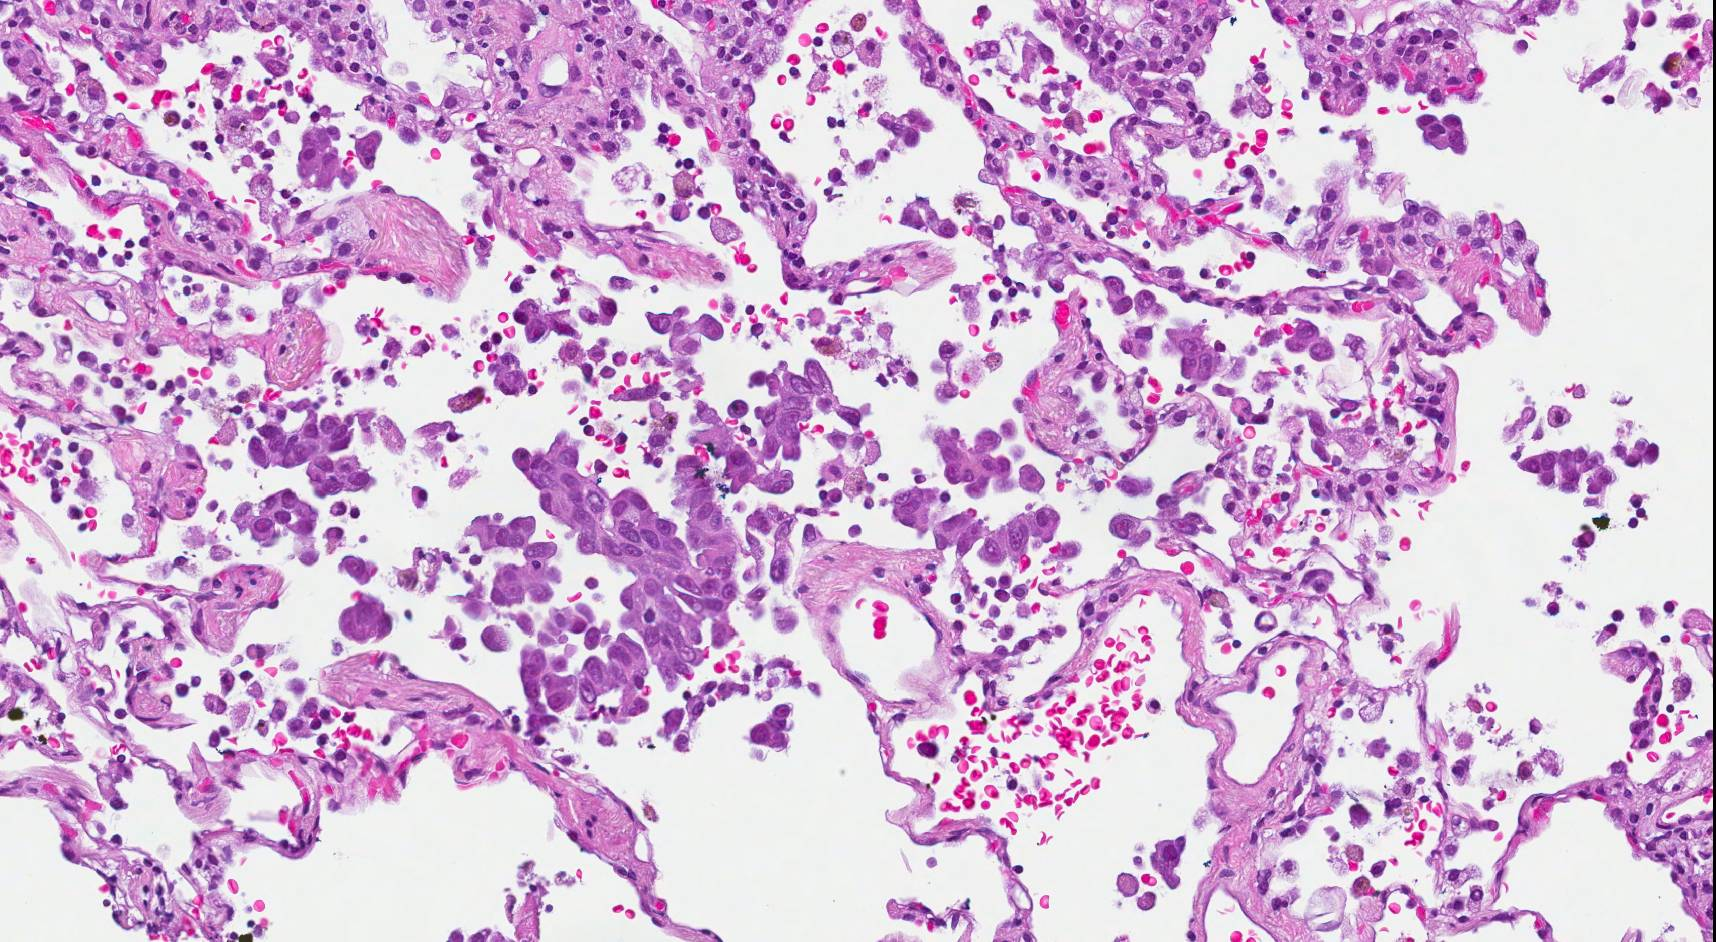stas: (509, 422, 745, 721), (707, 360, 863, 495), (889, 484, 1063, 569), (246, 400, 389, 499), (462, 513, 558, 618), (930, 417, 1051, 499), (1100, 485, 1212, 546), (287, 120, 386, 188), (1517, 447, 1625, 506), (232, 488, 319, 549), (327, 589, 405, 652), (875, 90, 943, 157), (641, 307, 725, 358), (1164, 323, 1227, 388), (898, 182, 961, 245), (516, 299, 584, 346), (1278, 316, 1338, 367), (1102, 272, 1168, 318), (1149, 821, 1190, 892), (1411, 113, 1476, 157), (473, 348, 532, 396), (747, 702, 796, 752), (1609, 432, 1666, 467), (1118, 318, 1156, 359)
